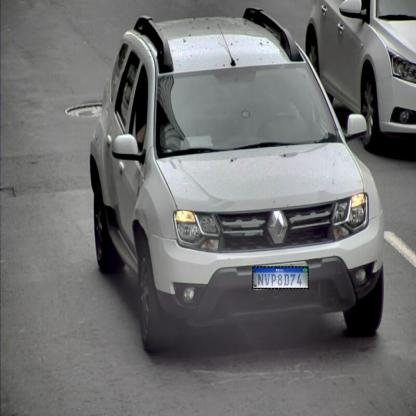PlacaM: (252, 266, 309, 289)
